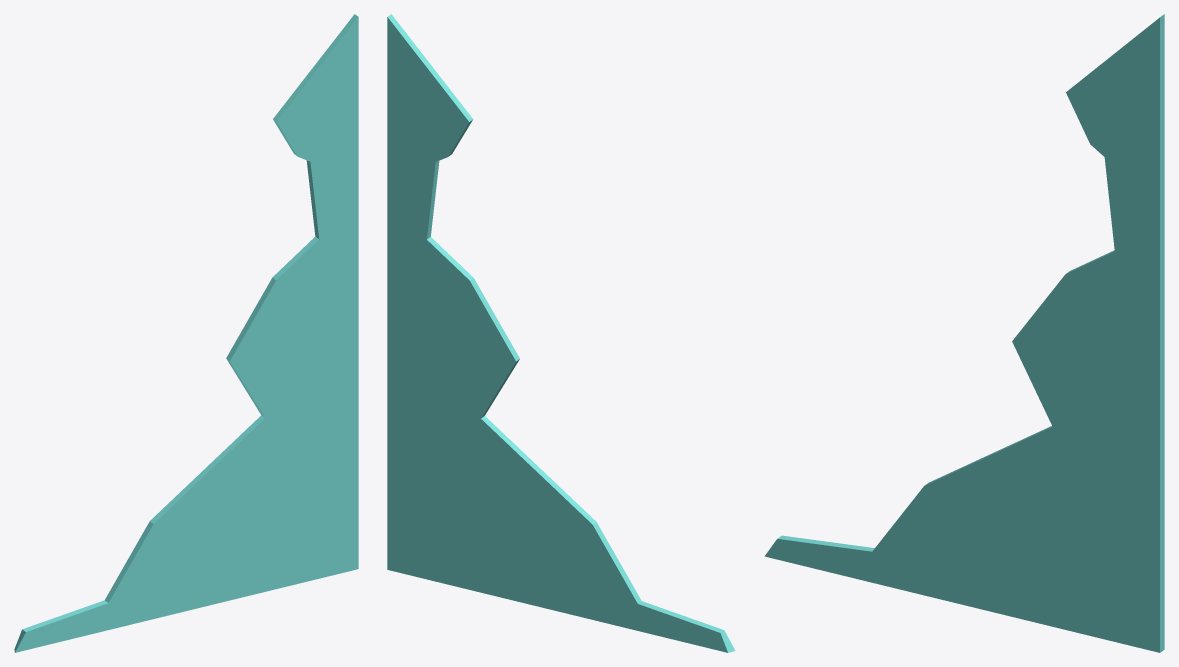
Rendered from Glass Destroyed A.fbx.
3 views of the same model, side by side, from view 1: azimuth 30°, elevation 25°; view 2: azimuth 150°, elevation 25°; view 3: azimuth 330°, elevation 25° (orthographic). The views are drawn at different scales.
Parts seen in each view (by area): view 1: Glass Destroyed A; view 2: Glass Destroyed A; view 3: Glass Destroyed A.
Part boxes in pixels (x1,y1,x2,y2): Glass Destroyed A: (14,14,358,652); Glass Destroyed A: (387,14,735,652); Glass Destroyed A: (764,14,1164,652).
Size of the model in its own units: 0.5384 by 0.8268 by 0.0106.
